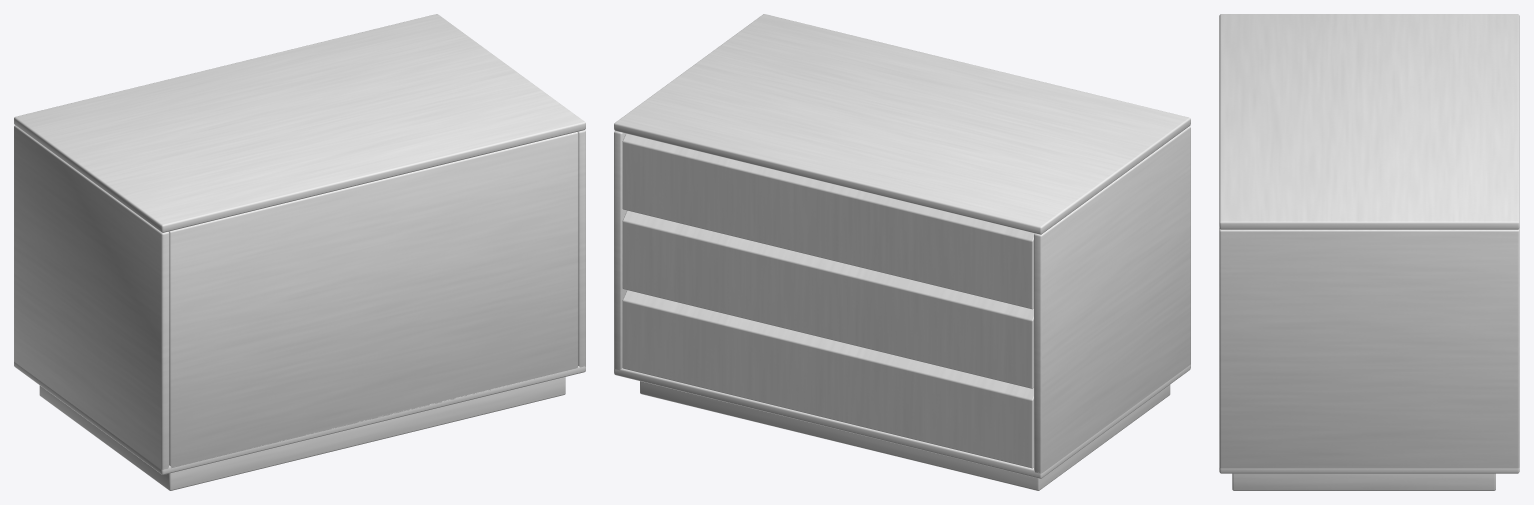
File: dresser-three-drawer.glb
3 renders of one model, left to right at view 1: azimuth 30°, elevation 25°; view 2: azimuth 150°, elevation 25°; view 3: azimuth 270°, elevation 25°, orthographic.
Visible parts, largest first — view 1: Cabinet rear, Cabinet top and base.001, Cabinet side, Recessed plinth, Cabinet top and base, Cabinet side.001; view 2: Cabinet top and base.001, Cabinet side, Drawer front with inset top pull.001, Drawer front with inset top pull, Drawer front with inset top pull.002, Recessed plinth, Cabinet top and base, Cabinet side.001; view 3: Cabinet side.001, Cabinet top and base.001, Recessed plinth, Cabinet top and base.
Boxes of the visible parts, box(x1,y1,x2,y2) form: Cabinet rear: box(169, 132, 578, 468); Cabinet top and base.001: box(14, 14, 585, 232); Cabinet side: box(14, 125, 169, 469); Recessed plinth: box(39, 377, 565, 490); Cabinet top and base: box(14, 362, 585, 474); Cabinet side.001: box(577, 130, 585, 367); Cabinet top and base.001: box(614, 14, 1190, 234); Cabinet side: box(1034, 126, 1190, 473); Drawer front with inset top pull.001: box(622, 210, 1033, 388); Drawer front with inset top pull: box(622, 290, 1033, 468); Drawer front with inset top pull.002: box(622, 133, 1034, 309); Recessed plinth: box(640, 381, 1170, 490); Cabinet top and base: box(614, 364, 1190, 478); Cabinet side.001: box(614, 131, 626, 370); Cabinet side.001: box(1219, 229, 1519, 468); Cabinet top and base.001: box(1219, 14, 1519, 229); Recessed plinth: box(1232, 473, 1495, 490); Cabinet top and base: box(1219, 468, 1519, 473).
Bounding box in the file's own units: 1.3 × 0.8 × 0.787.
1 material, 1 textured.
